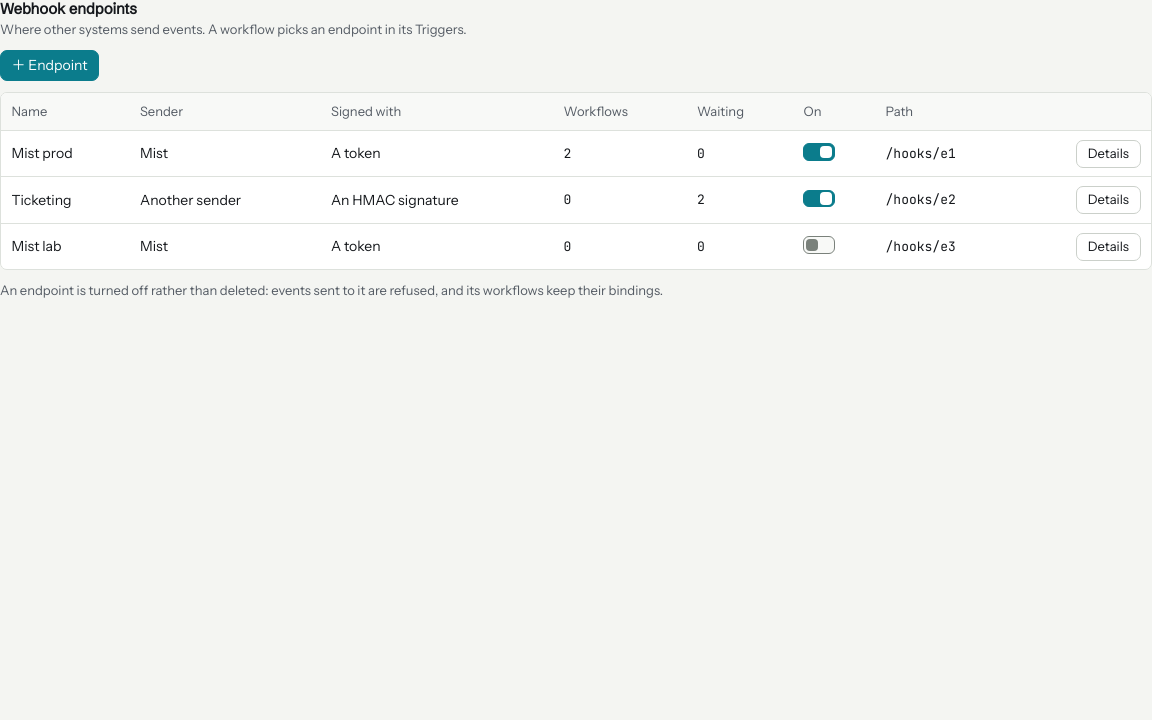
Test: Settings → Webhook endpoints › rotates a token after asking, and shows the new one once
Expected: the heading "Webhook endpoints" is shown, [0,0,137,18]
What coordinates should you click on to do the following:
click the button with aria-label "Mist prod, details"
I would click on:
 (1108, 154)
Its box is [1076,140,1140,168].
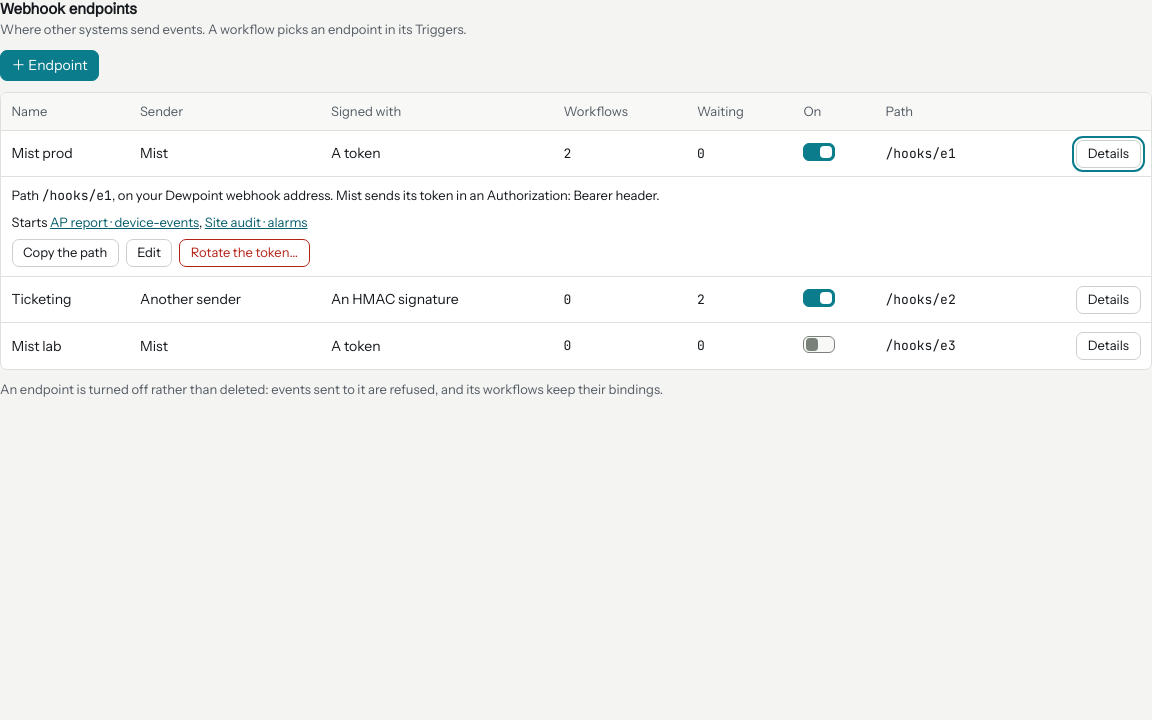
What coordinates should you click on to do the following:
click the button "Rotate the token…"
I would click on:
 (244, 253)
Its box is [179,239,310,267].
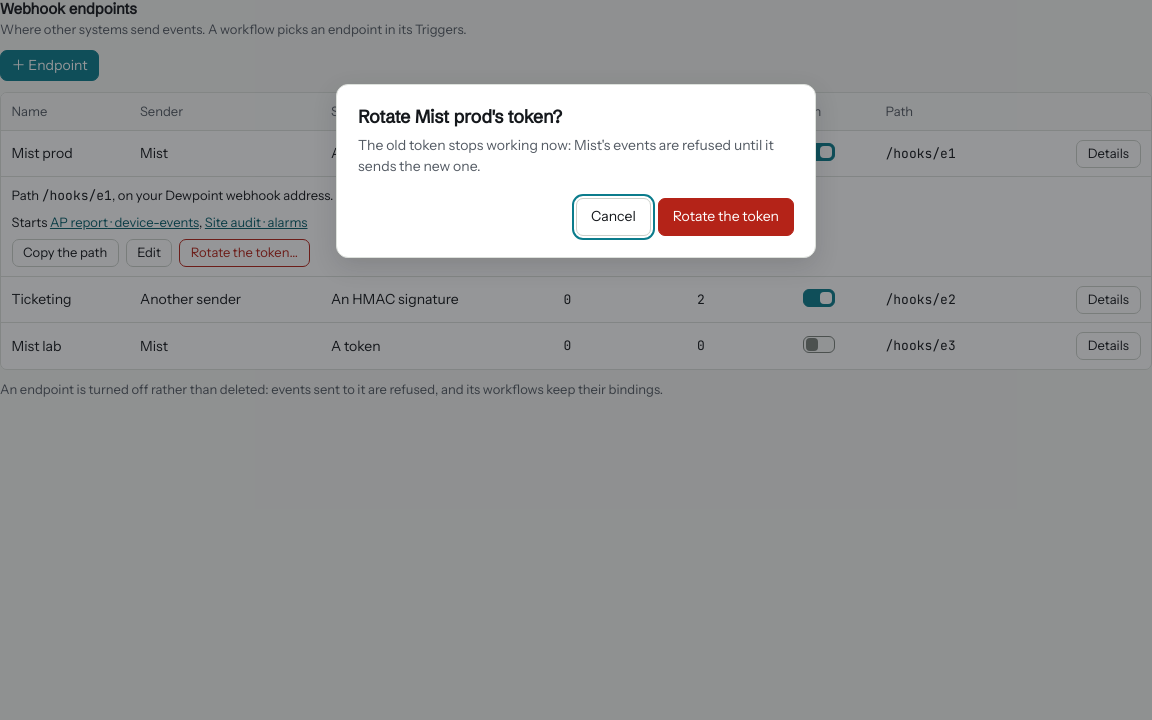
Result: the dialog "Rotate Mist prod's token?" shows "The old token stops working now: Mist's events are refused until it sends the new one." at [358,136,774,175]
What coordinates should you click on to do the following:
click the button "Rotate the token"
I would click on:
 (726, 217)
Its box is [658,198,794,236].
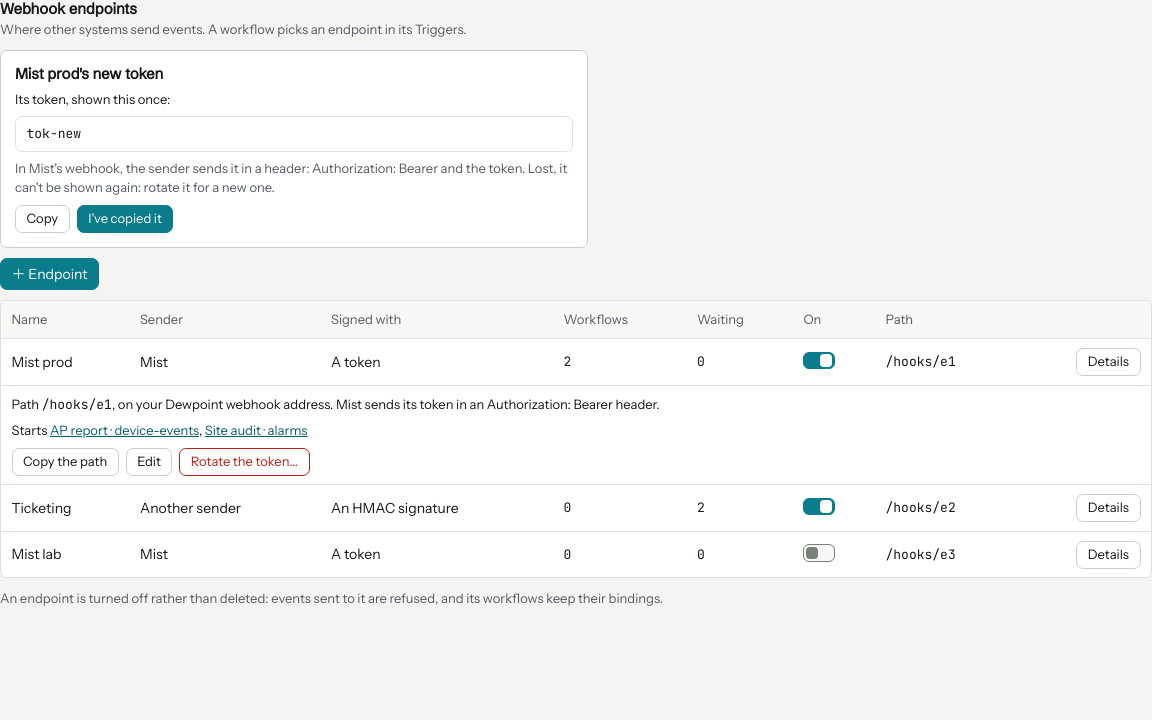
Result: the message shows "tok-new" at [26,125,81,142]
